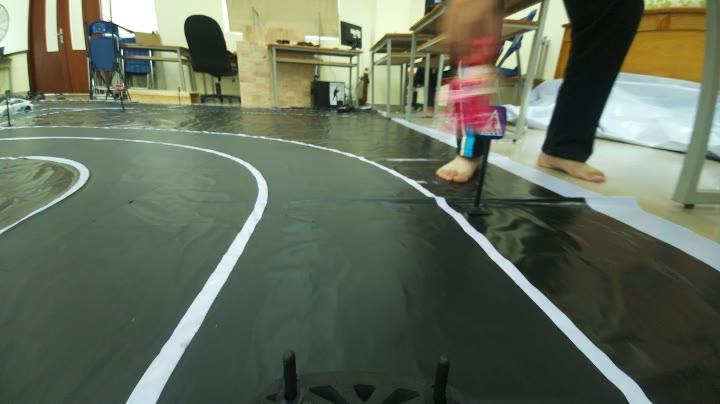crosswalk: (474, 106, 510, 140)
